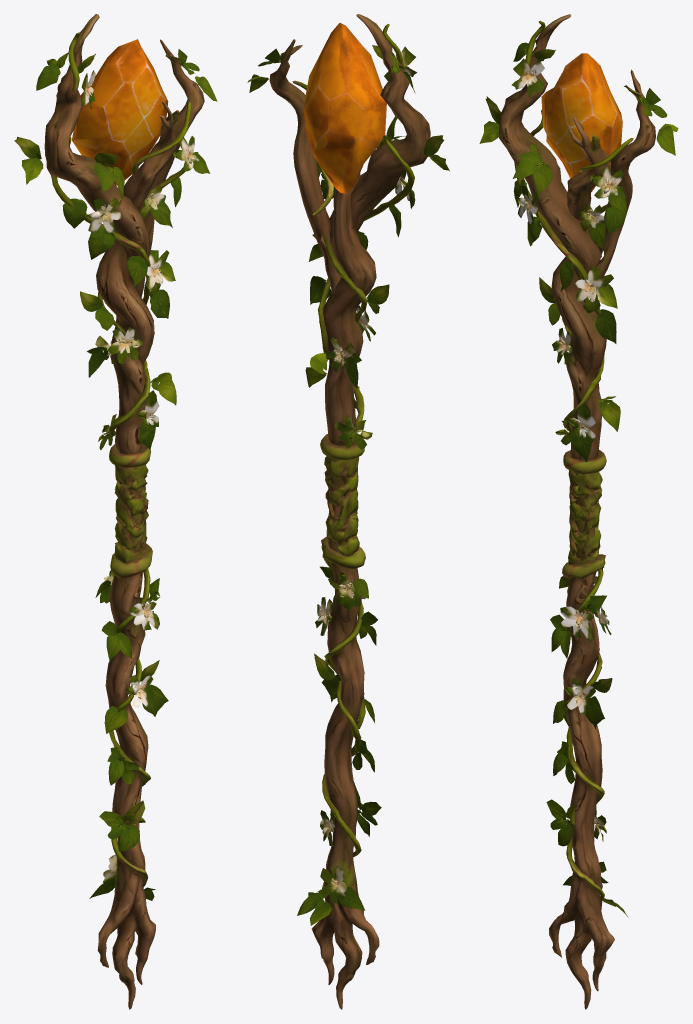
File: druid_staff.fbx
The picture shows the model from 3 angles, left to right: view 1: azimuth 30°, elevation 25°; view 2: azimuth 150°, elevation 25°; view 3: azimuth 330°, elevation 25°; orthographic projection. The views are drawn at different scales.
Visible parts, largest first — view 1: geometry_0; view 2: geometry_0; view 3: geometry_0.
Boxes of the visible parts, box(x1,y1,x2,y2) form: geometry_0: box(14, 14, 217, 1009); geometry_0: box(247, 14, 449, 1009); geometry_0: box(479, 14, 678, 1009).
Size of the model in its own units: 19.78 by 95.02 by 8.06.
1 material, 1 textured.
